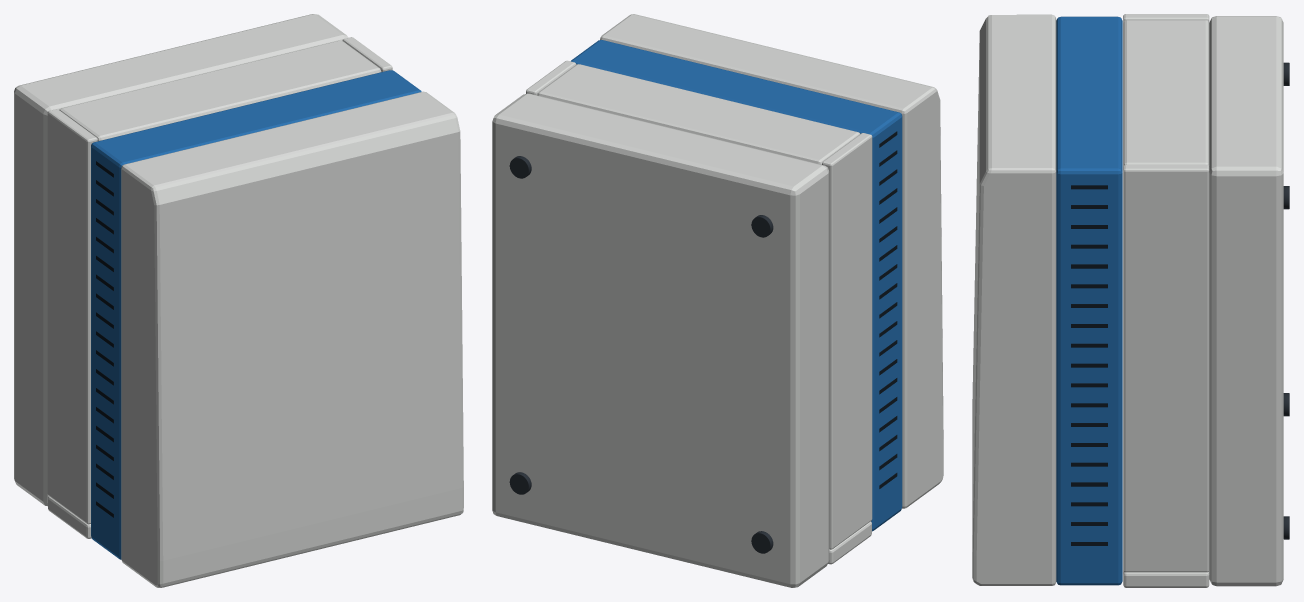
File: revvity_celigo.glb
The picture shows the model from 3 angles, left to right: view 1: azimuth 30°, elevation 25°; view 2: azimuth 150°, elevation 25°; view 3: azimuth 270°, elevation 25°; orthographic projection. The views are drawn at different scales.
Visible parts, largest first — view 1: Loading aperture side fascia, Ventilation belt, Celigo status fascia; view 2: Loading aperture side fascia, Ventilation belt, Celigo status fascia, Isolating foot; view 3: Loading aperture side fascia, Ventilation belt, Celigo status fascia, Isolating foot.
Part boxes in pixels (box(x1,y1,x2,y2)): Loading aperture side fascia: box(14, 14, 463, 587); Ventilation belt: box(91, 70, 421, 559); Celigo status fascia: box(96, 161, 113, 517); Loading aperture side fascia: box(492, 14, 943, 587); Ventilation belt: box(571, 40, 902, 531); Celigo status fascia: box(879, 131, 897, 488); Isolating foot: box(509, 156, 773, 553); Loading aperture side fascia: box(972, 14, 1283, 587); Ventilation belt: box(1056, 16, 1122, 585); Celigo status fascia: box(1071, 185, 1107, 545); Isolating foot: box(1283, 62, 1289, 539).
Bounding box in the file's own units: 0.508 × 0.635 × 0.435.
